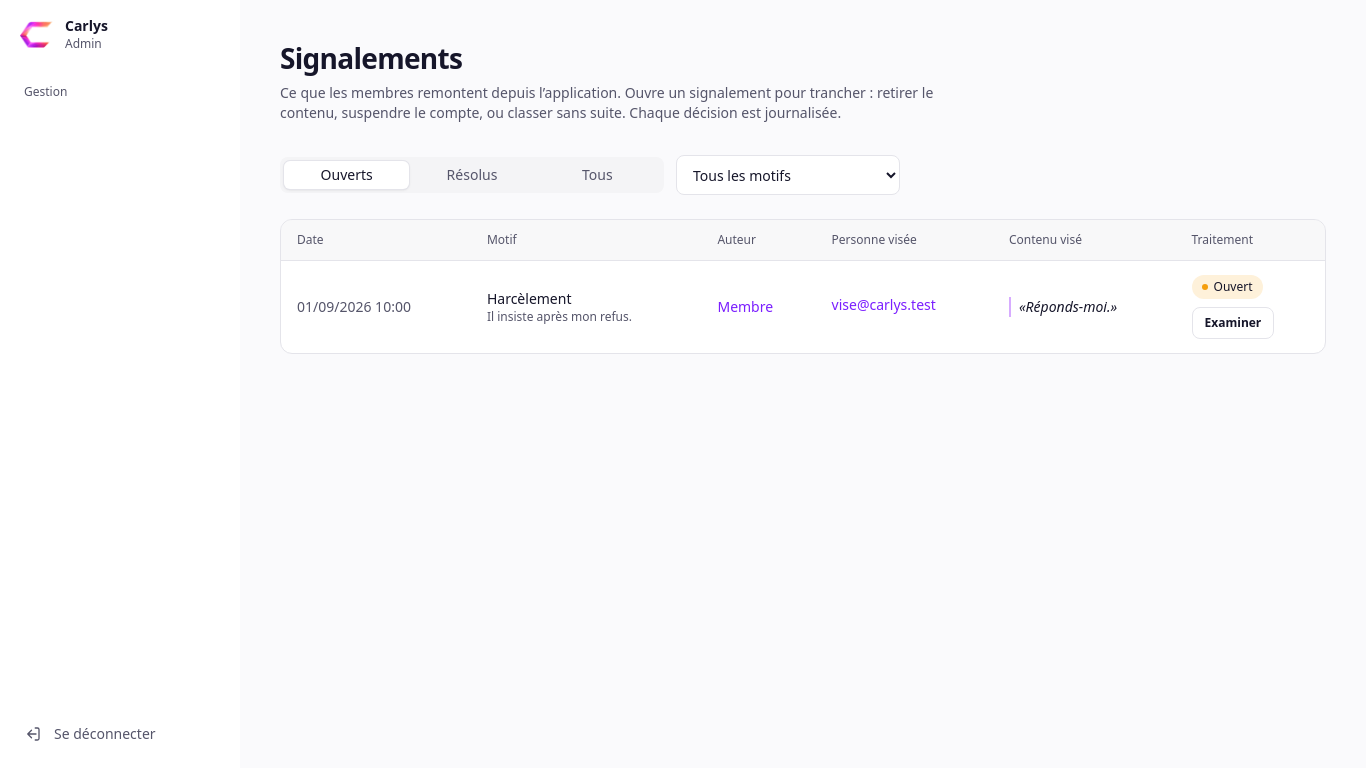
Test: Page Signalements › montre un refus de décision (403) dans la fiche, sans casser la liste
This screenshot has width=1366, height=768.
Click the button "Examiner".
click(1233, 323)  # box top-left (1192, 307), bottom-right (1274, 339)
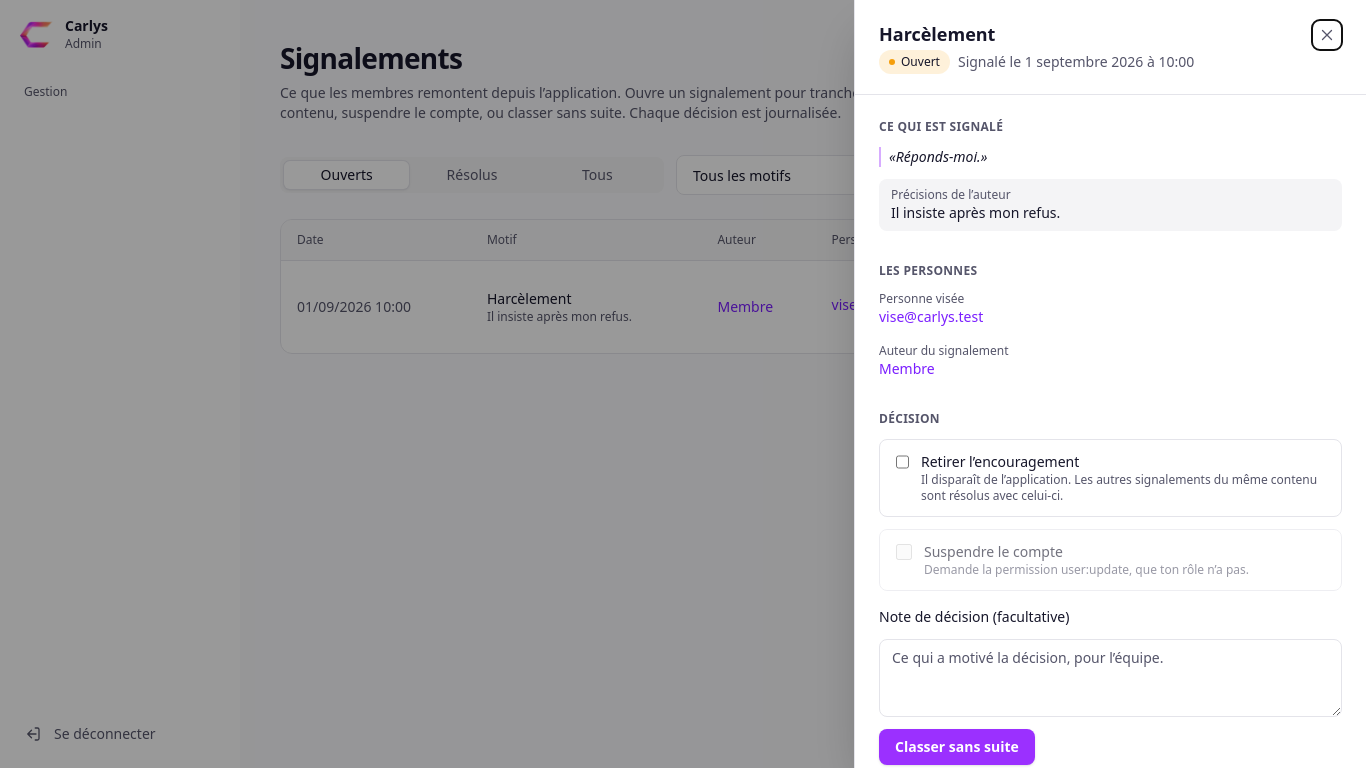
Click the button "Classer sans suite".
click(957, 747)  # box top-left (879, 729), bottom-right (1035, 765)
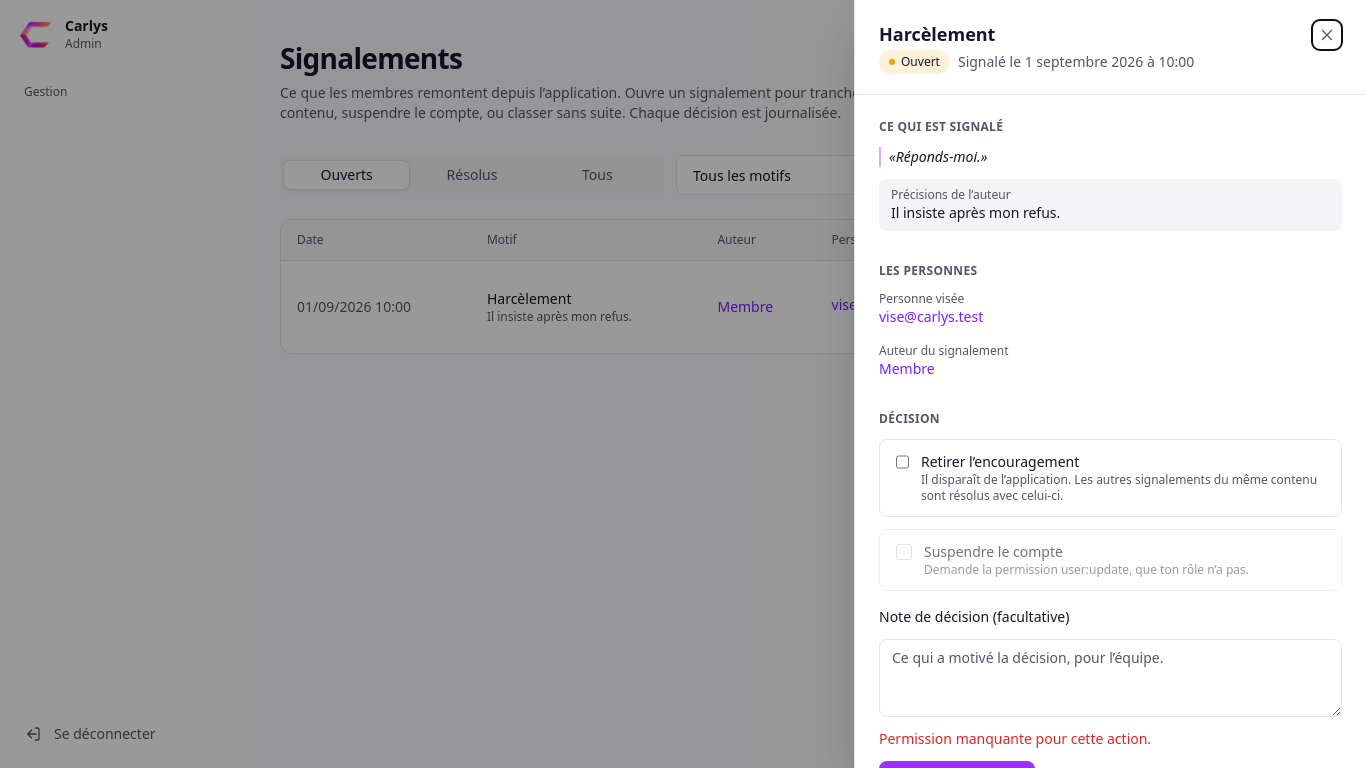
expect the text "Harcèlement" is shown: met, box top-left (487, 289), bottom-right (571, 308)
expect the message shows "Permission manquante": met, box top-left (879, 729), bottom-right (1151, 748)
